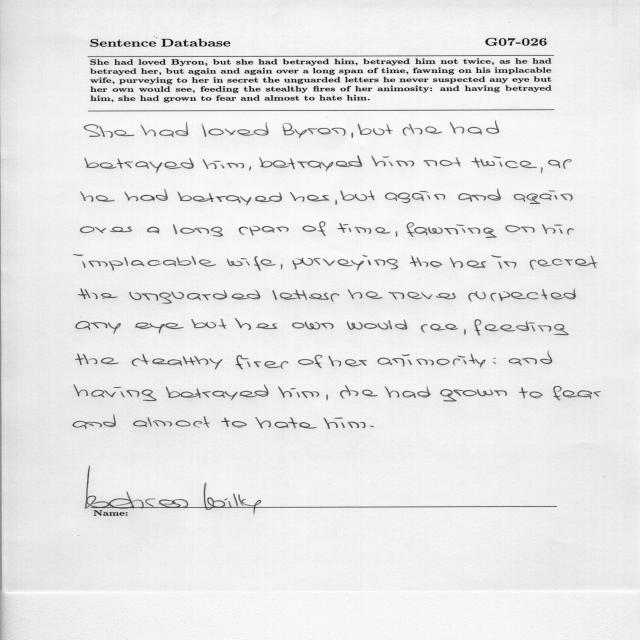word: (73, 255, 216, 271), (129, 290, 260, 304), (292, 255, 398, 271), (85, 158, 194, 173), (378, 353, 486, 368), (474, 319, 569, 336), (259, 156, 362, 171), (166, 385, 269, 400), (177, 192, 282, 206), (132, 354, 223, 370), (407, 222, 497, 238), (468, 289, 576, 302), (74, 385, 157, 401), (202, 122, 269, 137), (282, 123, 346, 138), (530, 256, 597, 270), (133, 416, 210, 428), (273, 290, 340, 303), (440, 389, 507, 402), (514, 190, 573, 204), (236, 355, 289, 370), (471, 156, 537, 168), (450, 120, 499, 135), (227, 256, 276, 271), (141, 122, 189, 137), (385, 191, 445, 203), (84, 124, 134, 138), (255, 417, 317, 428), (553, 386, 601, 400), (347, 319, 407, 330), (173, 224, 223, 237), (73, 414, 116, 429), (458, 188, 501, 202), (509, 351, 552, 365), (76, 321, 121, 334), (337, 223, 390, 234), (385, 386, 431, 398), (135, 323, 184, 334), (124, 189, 168, 201), (340, 385, 377, 399), (403, 123, 442, 136), (235, 318, 277, 330), (324, 417, 366, 429), (239, 226, 289, 236), (278, 386, 319, 398), (75, 354, 119, 365), (371, 156, 414, 167), (389, 292, 456, 299), (328, 356, 367, 367), (203, 159, 244, 169), (357, 124, 393, 135), (450, 257, 486, 268), (290, 192, 329, 202), (78, 289, 117, 299), (340, 190, 375, 201), (410, 256, 442, 268), (424, 157, 461, 167), (81, 191, 114, 202), (191, 319, 227, 329), (81, 226, 132, 233), (542, 224, 574, 235), (491, 255, 516, 269), (348, 289, 382, 299), (292, 322, 334, 330), (303, 222, 326, 236), (298, 355, 322, 368), (421, 324, 458, 332), (519, 387, 543, 398), (221, 418, 247, 428), (548, 159, 572, 169), (506, 225, 535, 233), (147, 227, 159, 234), (493, 357, 496, 364), (352, 132, 354, 138), (541, 167, 543, 173), (336, 199, 338, 205), (396, 231, 398, 237), (281, 264, 283, 270), (464, 329, 466, 335), (326, 395, 328, 401), (249, 166, 251, 171), (370, 426, 374, 428)
